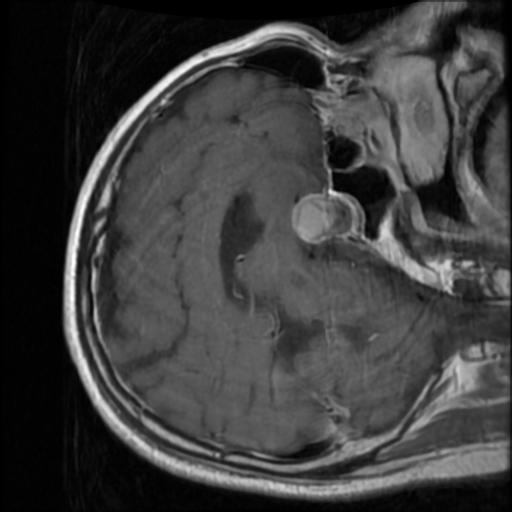pituitary tumour: (297, 196, 339, 242)
